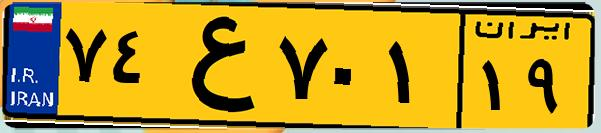0: (330, 28, 385, 110)
1: (385, 28, 445, 110), (475, 38, 525, 113)
4: (110, 28, 158, 98)
7: (270, 28, 330, 110), (57, 26, 110, 100)
9: (525, 38, 570, 115)
ع: (158, 12, 270, 120)
